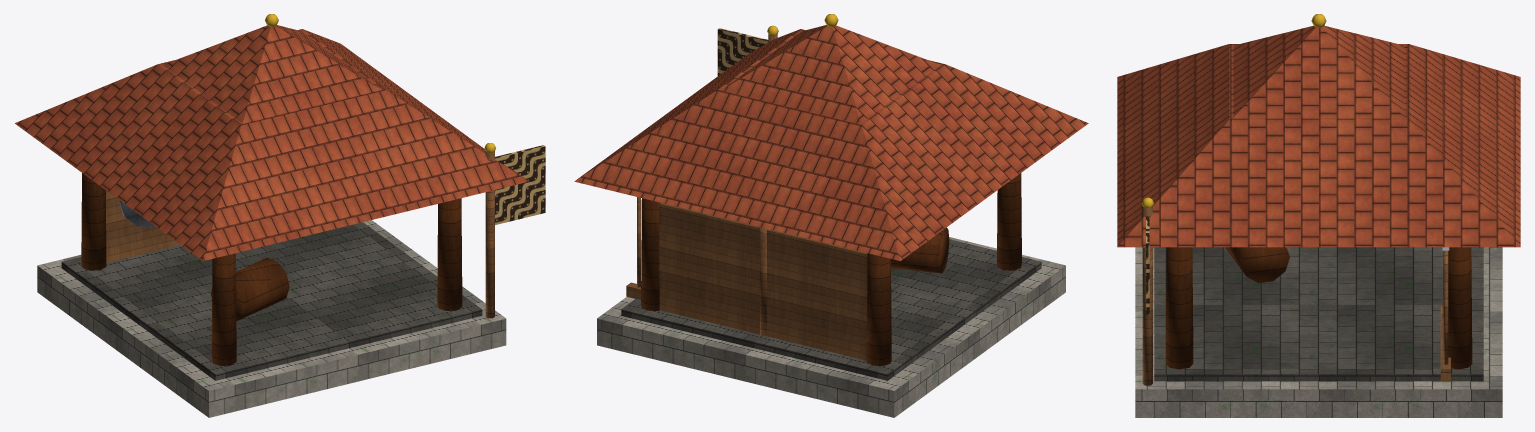
File: barracks_jawa.glb
3 views of the same model, side by side, from view 1: azimuth 30°, elevation 25°; view 2: azimuth 150°, elevation 25°; view 3: azimuth 270°, elevation 25° (orthographic). The views are drawn at different scales.
Visible parts, largest first — view 1: barracks_jawa; view 2: barracks_jawa; view 3: barracks_jawa.
Boxes of the visible parts, box(x1,y1,x2,y2) form: barracks_jawa: box(15, 14, 545, 417); barracks_jawa: box(574, 14, 1088, 417); barracks_jawa: box(1117, 14, 1520, 417).
Bounding box in the file's own units: 3.47 × 2.84 × 3.18.
Materials: 9 (7 with a texture image).
